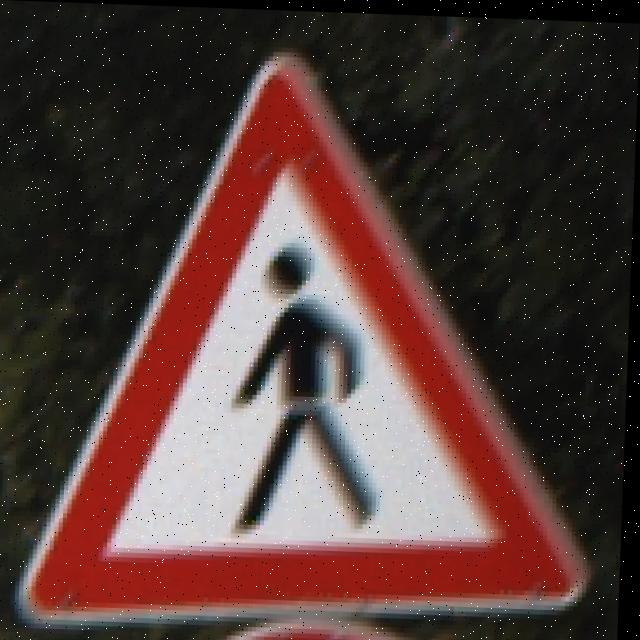crosswalk: (75, 60, 602, 640)
